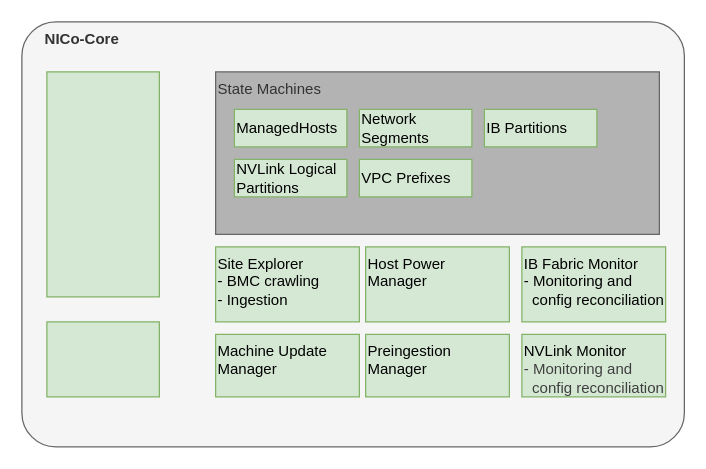
This 706x469 diagram has some shape labels left out. Here are the shapes that lost their labels. From the top down, the centre of each, then its label:
pixel 102 184: gRPC APIs
pixel 102 359: Debug Web UI
